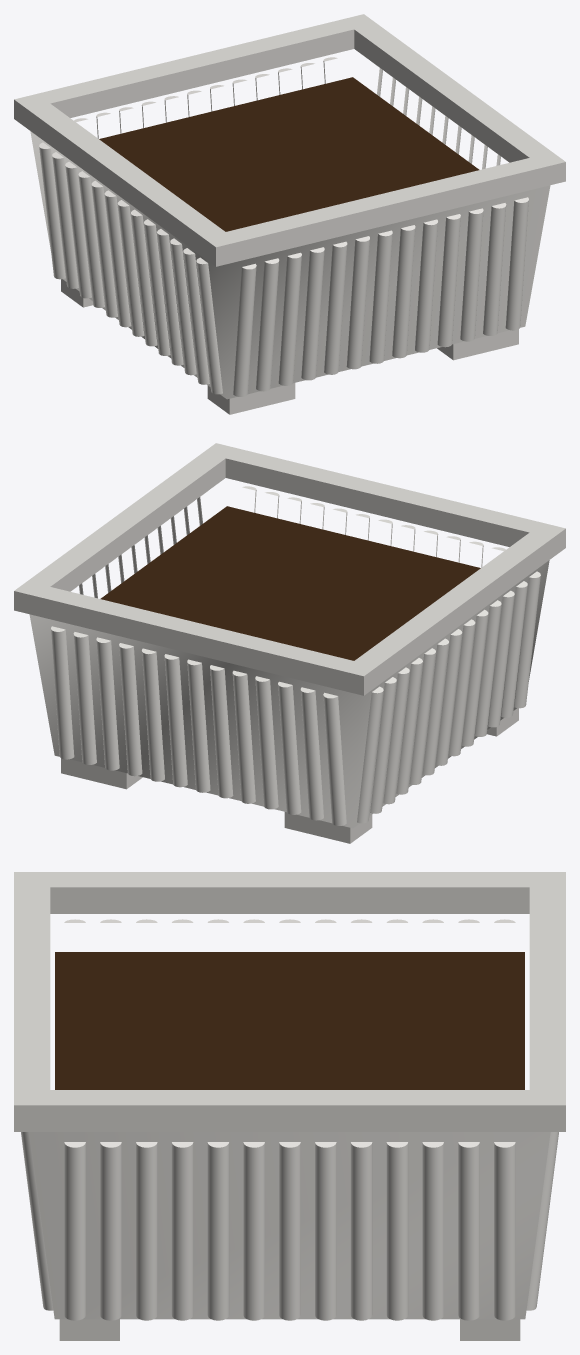
3 renders of one model, top to bottom at view 1: azimuth 30°, elevation 25°; view 2: azimuth 150°, elevation 25°; view 3: azimuth 270°, elevation 25°, orthographic. The views are drawn at different scales.
Parts seen in each view (by area): view 1: soil, shell, rim-top-f, rim-top-b, rim-top-l, rim-top-r, rim-f, rim-b, flute-0-3, flute-0-10, flute-0-6, flute-0-0 (+26 smaller); view 2: soil, shell, rim-top-b, rim-top-f, rim-top-l, rim-top-r, rim-b, rim-f, flute-1-9, flute-1-2, flute-1-6, flute-1-12 (+26 smaller); view 3: soil, shell, rim-top-l, rim-top-r, rim-top-f, rim-top-b, rim-l, rim-r, flute-2-3, flute-2-9, flute-2-4, flute-2-8 (+13 smaller).
Part boxes in pixels (x1,y1,x2,y2): soil: (99, 77, 479, 231); shell: (30, 131, 550, 399); rim-top-f: (202, 152, 565, 255); rim-top-b: (14, 14, 376, 117); rim-top-l: (27, 103, 225, 245); rim-top-r: (354, 24, 552, 159); rim-f: (202, 171, 565, 266); rim-b: (14, 38, 354, 128); flute-0-3: (301, 247, 324, 380); flute-0-10: (460, 208, 483, 341); flute-0-6: (369, 230, 392, 363); flute-0-0: (233, 263, 256, 396); soil: (100, 506, 480, 660); shell: (29, 560, 549, 828); rim-top-b: (14, 581, 377, 684); rim-top-f: (203, 443, 565, 546); rim-top-l: (354, 532, 552, 674); rim-top-r: (27, 453, 225, 588); rim-b: (14, 600, 377, 695); rim-f: (225, 467, 565, 557); flute-1-9: (255, 676, 278, 809); flute-1-2: (96, 637, 119, 770); flute-1-6: (187, 659, 210, 792); flute-1-12: (323, 692, 346, 825); soil: (55, 952, 524, 1089); shell: (29, 1132, 550, 1319); rim-top-l: (50, 872, 529, 899); rim-top-r: (50, 1090, 529, 1117); rim-top-f: (14, 872, 50, 1117); rim-top-b: (529, 872, 565, 1117); rim-l: (50, 899, 529, 913); rim-r: (50, 1117, 529, 1131); flute-2-3: (171, 1142, 193, 1320); flute-2-9: (386, 1142, 408, 1320); flute-2-4: (207, 1142, 229, 1320); flute-2-8: (350, 1142, 372, 1320).
Bounding box in the file's own units: 0.45 × 0.23 × 0.45.
